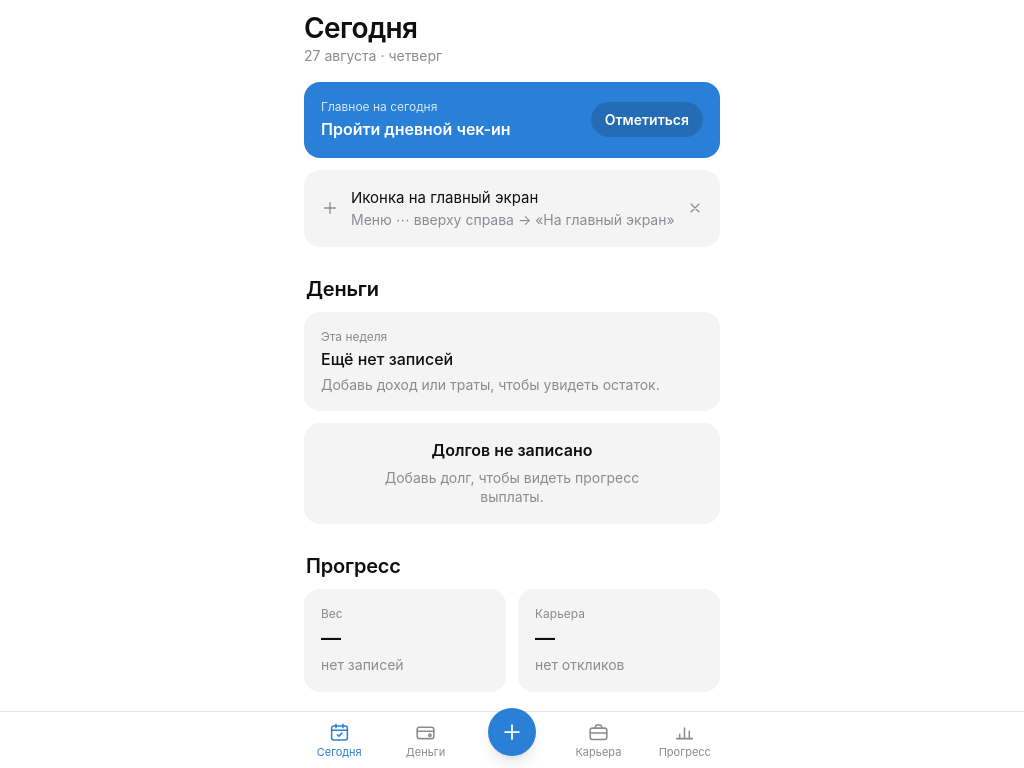
it: add button › opens a working form for Вес
Expected: the text "Главное на сегодня" is shown, [321, 99, 437, 114]
Click the button named "Добавить запись".
click(512, 732)  # box [488, 708, 536, 756]
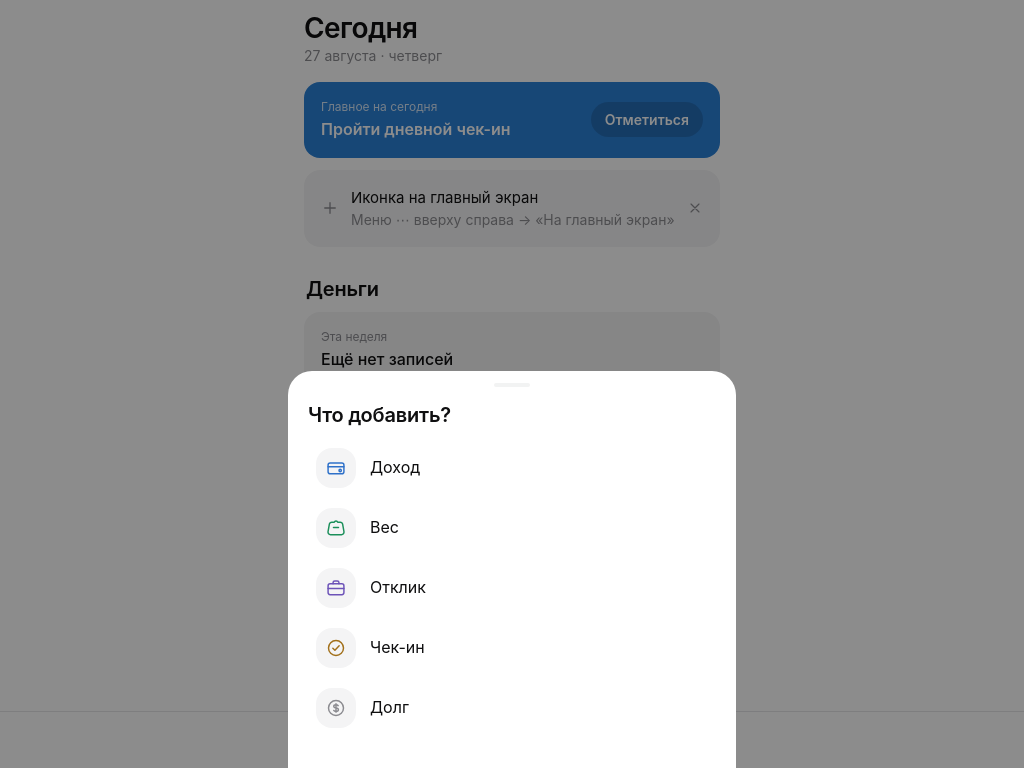
Now the heading "Что добавить?" is shown, box [308, 403, 451, 427]
Click the button "Вес".
click(336, 528)  # box [304, 500, 720, 556]
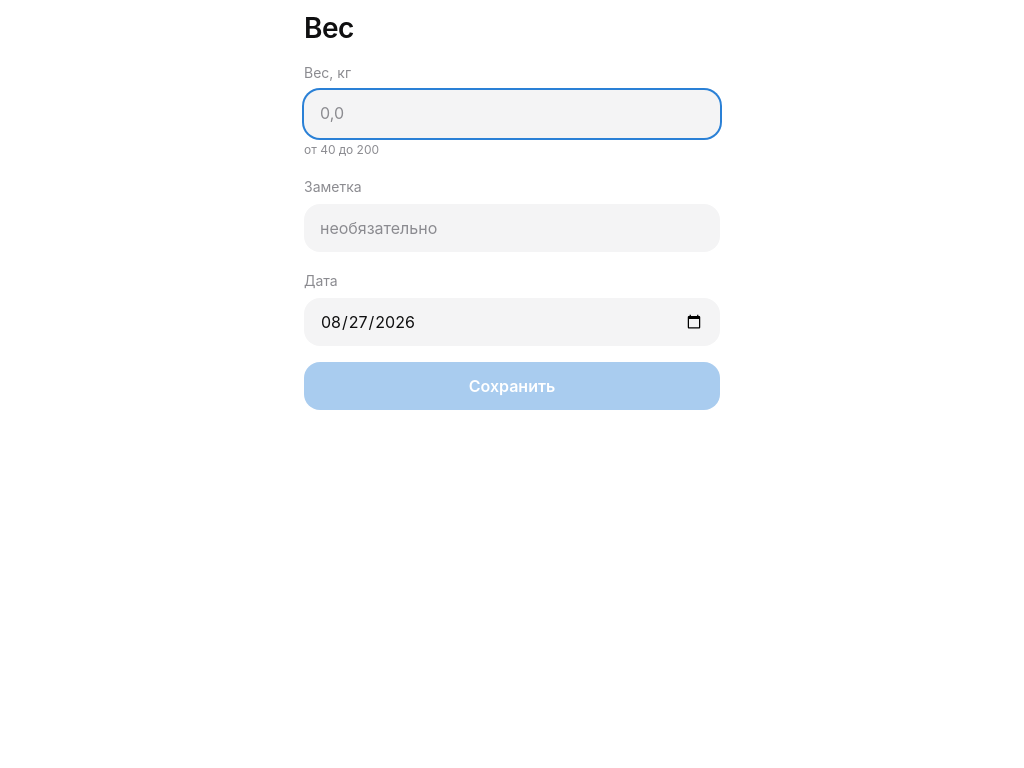
Now the text "Вес, кг" is shown, box [304, 64, 351, 81]
